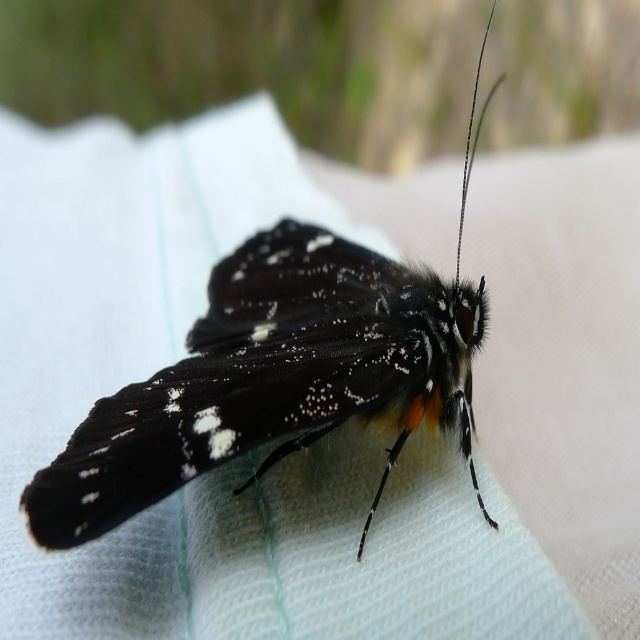Moths and butterflies: (16, 0, 501, 567)
